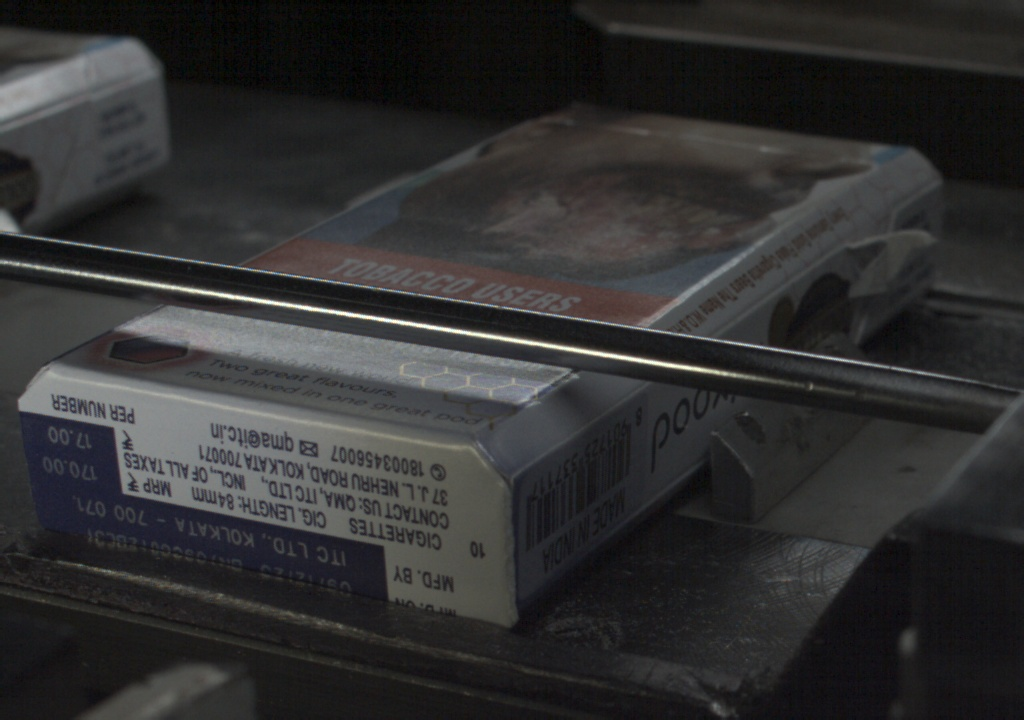g_bottom: (18, 365, 514, 629)
g_label: (35, 489, 392, 594)
g_lmiter: (730, 258, 820, 329), (511, 432, 580, 479), (581, 383, 646, 431)
g_miter: (901, 178, 942, 211)
ng_lmiter: (838, 218, 936, 270)
price: (32, 420, 119, 489)
